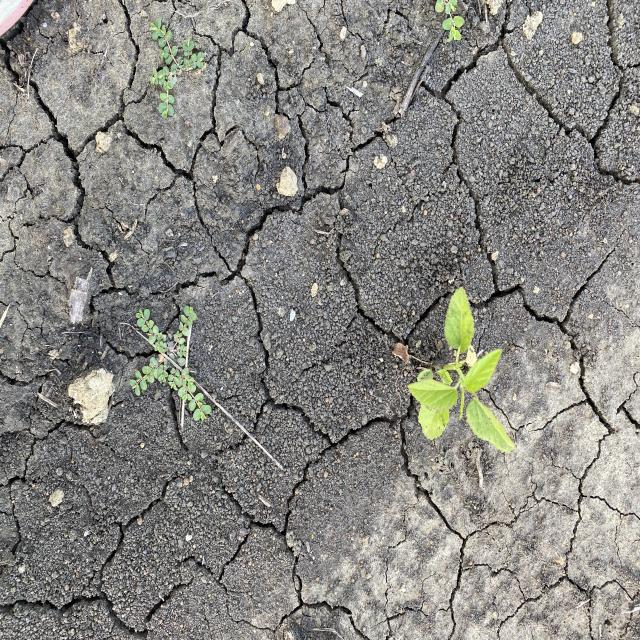PricklySida: (406, 285, 517, 456)
SpottedSpurge: (128, 305, 213, 424), (148, 14, 205, 121), (434, 1, 464, 43)
